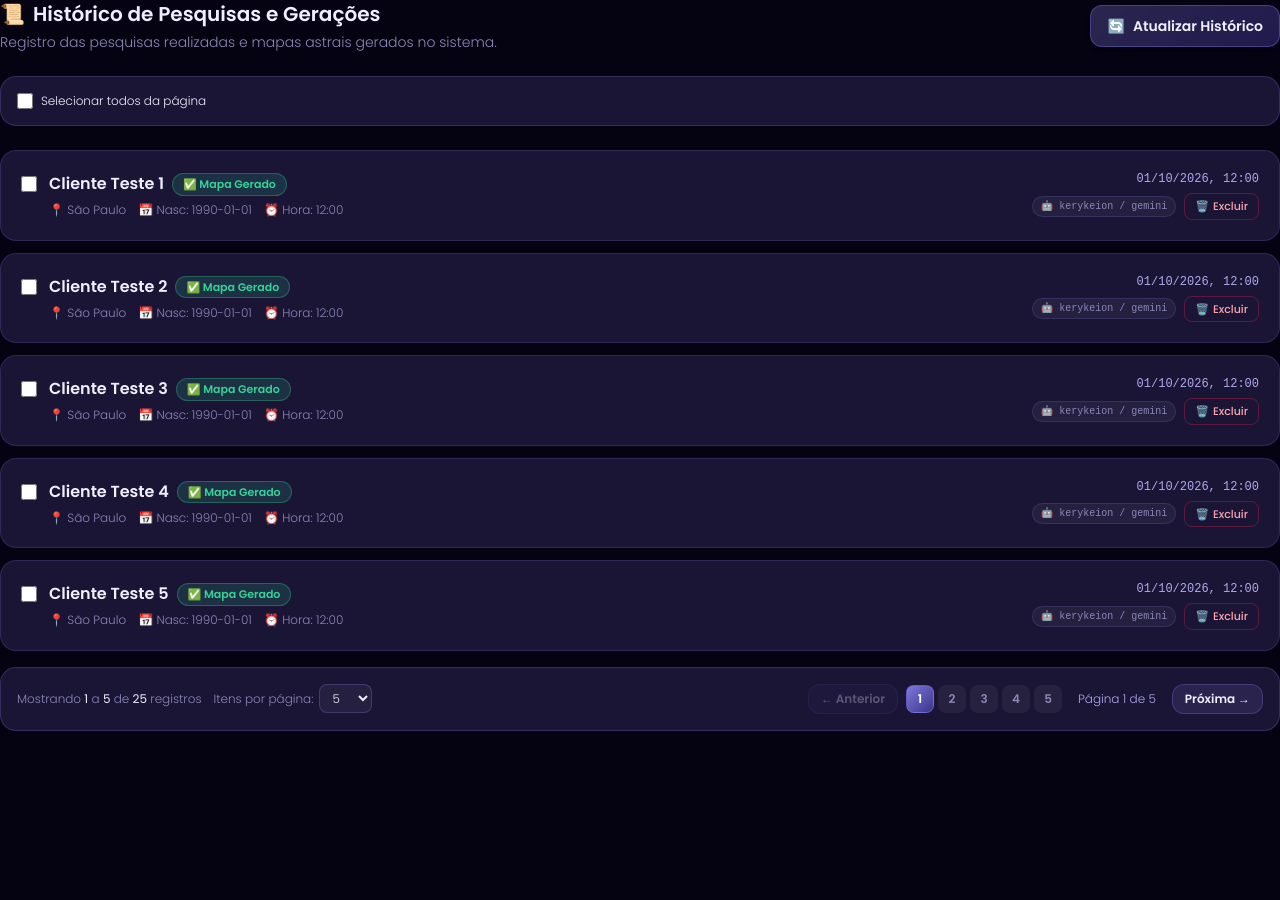
Test case: HistoricoPesquisas › aplica sistema de paginação com seletor de tamanho e navegação interativa
Expected: the text "Cliente Teste 1" is shown, [49,172,164,196]
Expected: the text "Cliente Teste 5" is shown, [49,582,168,606]
Note: Testar seletor de itens por página mudando para 20
Select "20" in the dropdown with test id "page-size-select" at x=346, y=698, box [319,684,372,713]
(page scrolled)
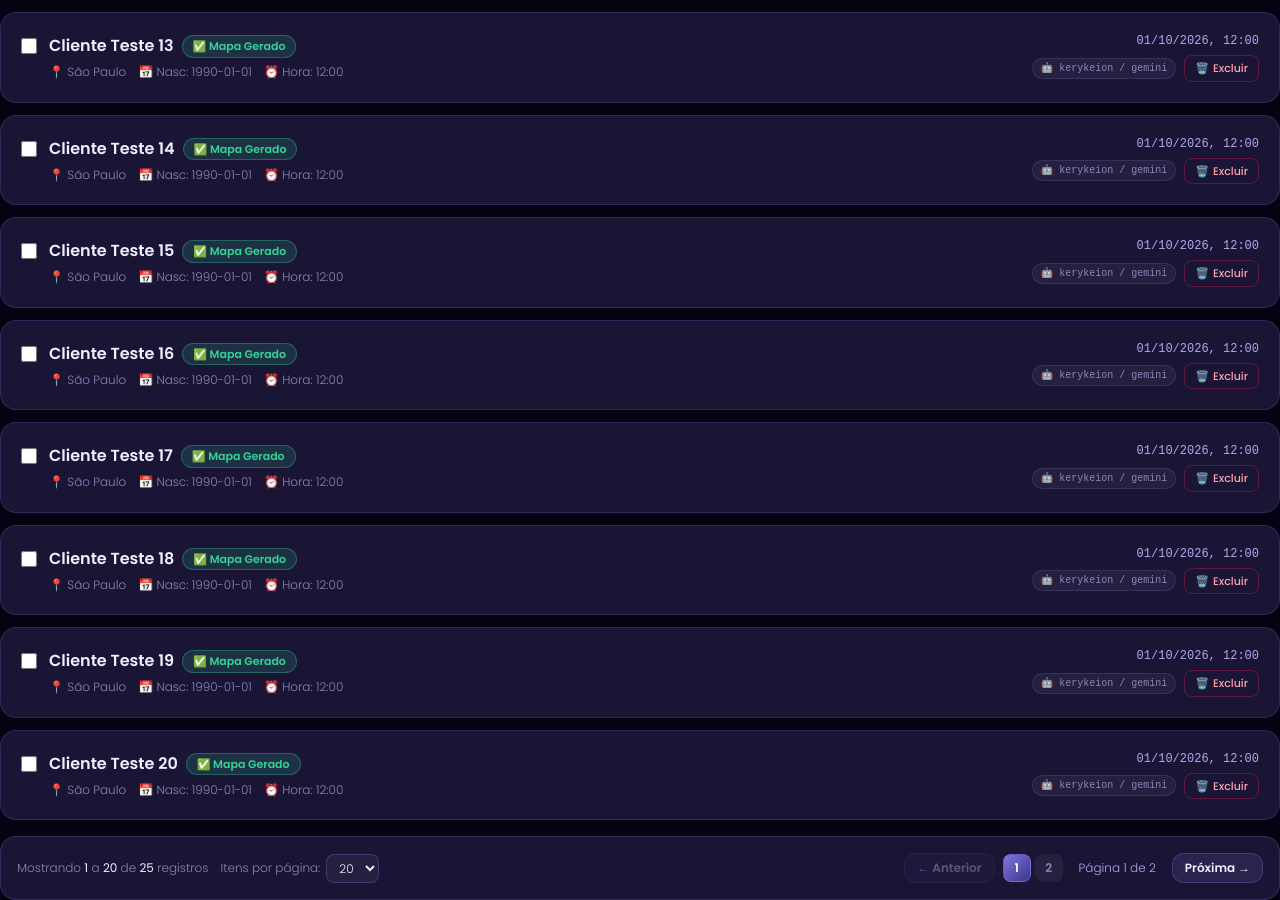
Expected: the text "Cliente Teste 20" is shown, [49,752,178,776]
Expected: the text with test id "page-indicator" reads "Página 1 de 2", [1079,859,1156,876]
Expected: the element with test id "pagination-info" reads "Mostrando 1 a 20 de 25 registros", [17,860,208,876]
Note: Clicar para ir para a próxima página
Click the button "Próxima →" at x=1217, y=868, box [1172,853,1263,883]
(page scrolled)
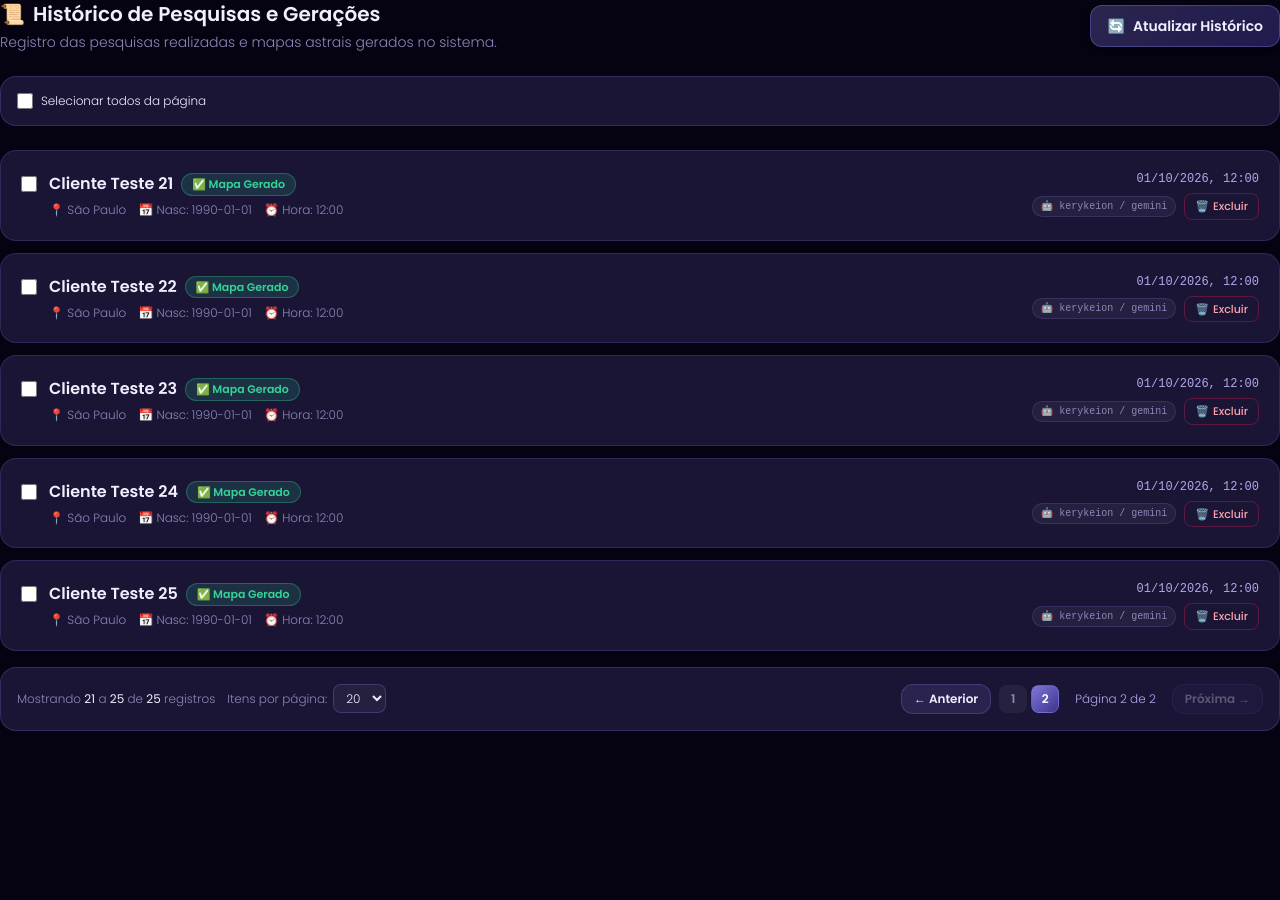
Expected: the text "Cliente Teste 21" is shown, [49,172,173,196]
Expected: the text "Cliente Teste 1" is gone
Expected: the text with test id "page-indicator" reads "Página 2 de 2", [1075,690,1156,706]
